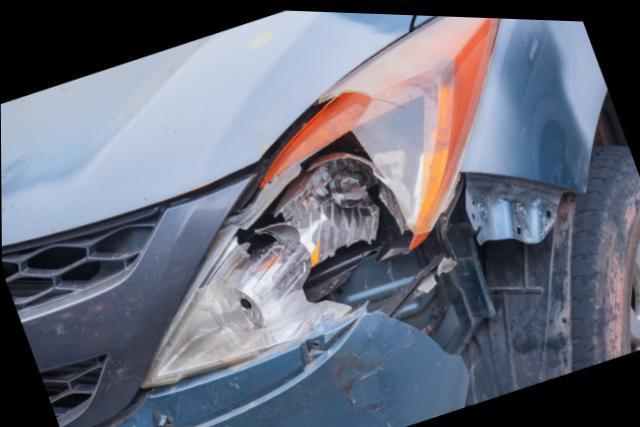lamp broken: (139, 13, 500, 385)
no part: (385, 168, 580, 381)
scratch: (327, 342, 396, 410)
